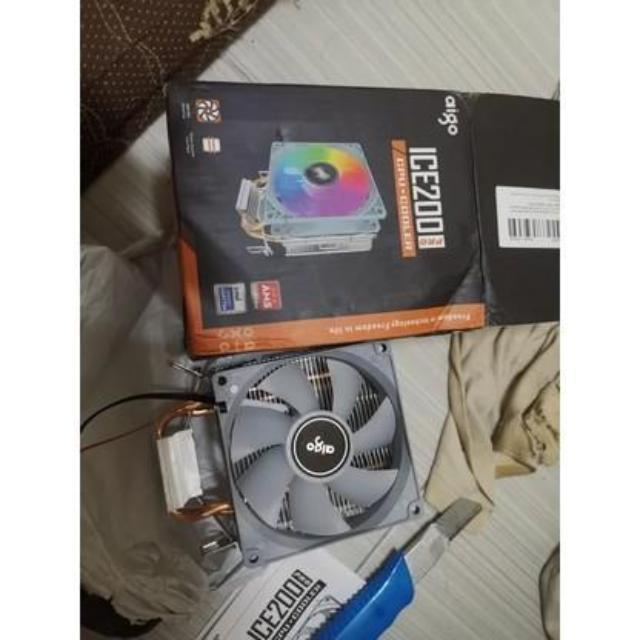CPU_Fan: (155, 340, 430, 566)
